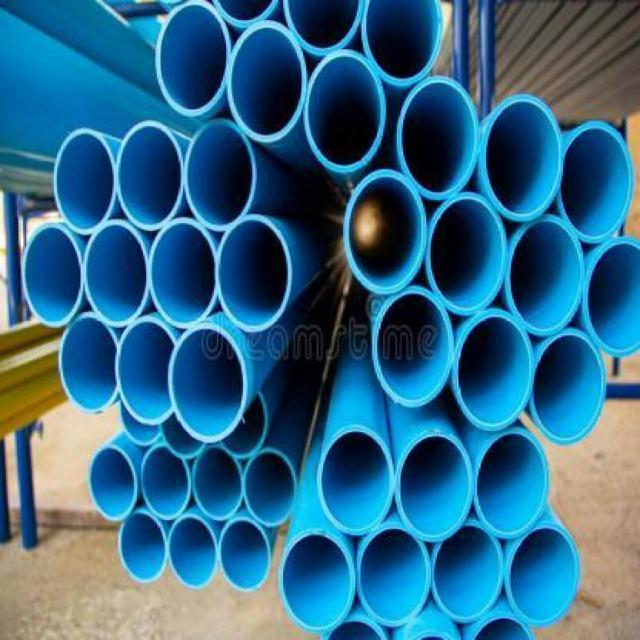pipe: (397, 76, 480, 201), (344, 170, 427, 295), (484, 94, 564, 222), (304, 49, 386, 173), (425, 193, 507, 316), (453, 308, 535, 430), (371, 287, 453, 407), (506, 215, 586, 337), (169, 322, 248, 442), (228, 22, 307, 142), (558, 121, 635, 242), (530, 329, 607, 446), (216, 216, 292, 333), (316, 425, 395, 536), (155, 2, 231, 116), (395, 431, 473, 542), (473, 430, 550, 538), (184, 119, 257, 231), (504, 522, 581, 627), (279, 529, 356, 634), (114, 120, 184, 232), (356, 521, 430, 625), (149, 218, 217, 329), (431, 520, 505, 622), (84, 219, 151, 327), (361, 1, 443, 88), (583, 237, 639, 359), (115, 317, 177, 425), (53, 129, 116, 235), (22, 223, 84, 328), (59, 312, 119, 414), (283, 0, 365, 57), (243, 447, 297, 527), (219, 381, 273, 458), (218, 517, 271, 591), (141, 445, 191, 521), (87, 445, 137, 521), (192, 447, 243, 521), (167, 516, 218, 589), (119, 510, 167, 581)
